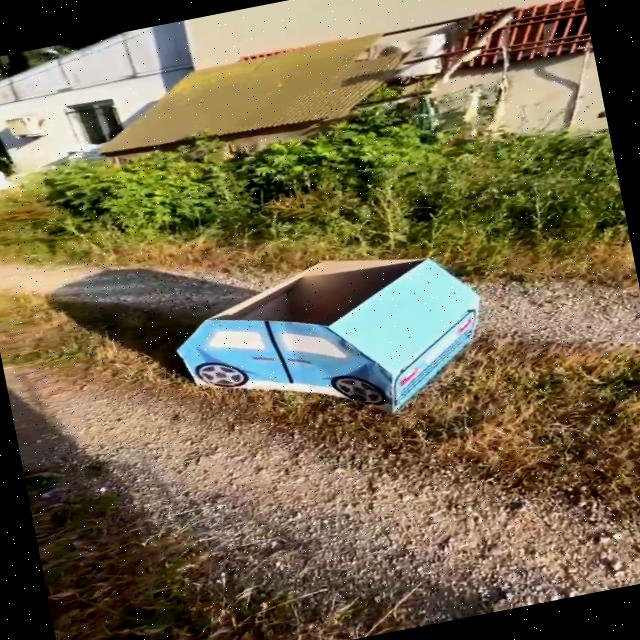blue_car: (106, 210, 517, 472)
